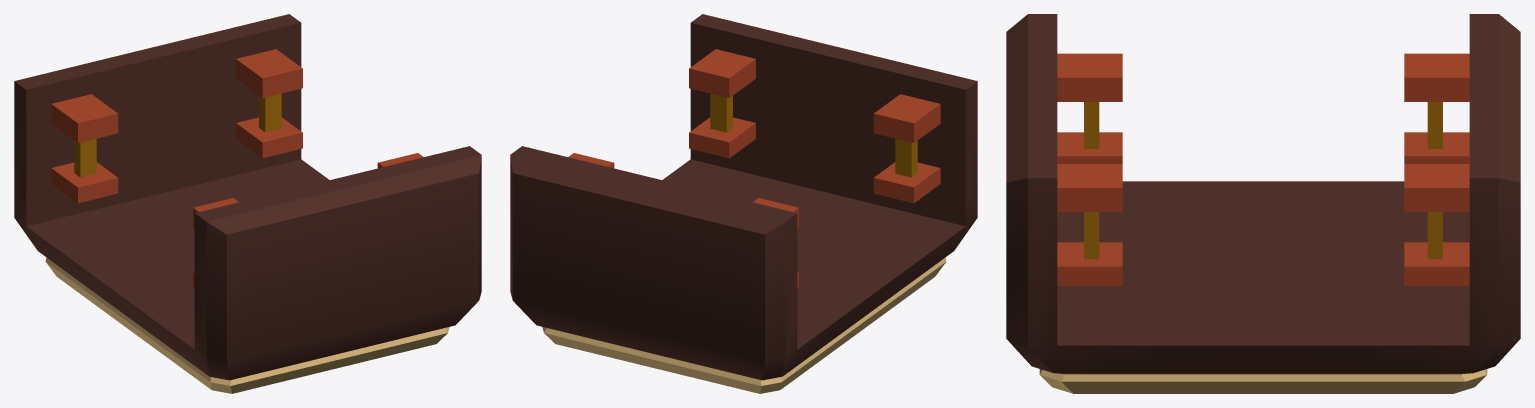
Rendered from BoxConduit.fbx.
3 views of the same model, side by side, from view 1: azimuth 30°, elevation 25°; view 2: azimuth 150°, elevation 25°; view 3: azimuth 270°, elevation 25° (orthographic). The views are drawn at different scales.
Parts seen in each view (by area): view 1: Box001; view 2: Box001; view 3: Box001.
Part boxes in pixels (x1=…): Box001: x1=14, y1=14, x2=481, y2=393; Box001: x1=510, y1=14, x2=977, y2=393; Box001: x1=1006, y1=14, x2=1520, y2=393.
Bounding box in the file's own units: 31.62 × 20.63 × 41.82.
1 material, 1 textured.
